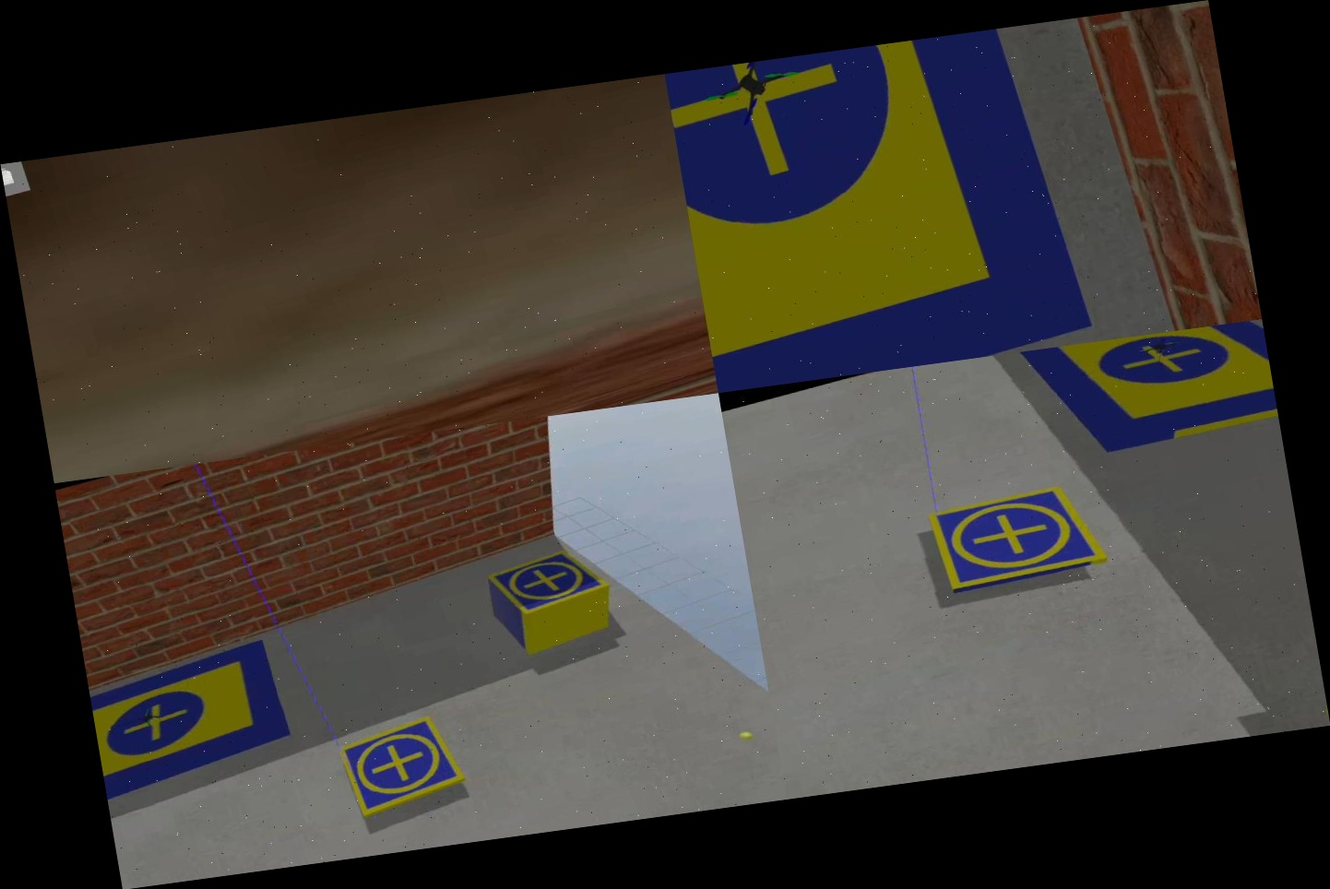large_base: (665, 22, 1100, 393), (1013, 319, 1284, 488), (85, 638, 311, 821)
small_base: (922, 473, 1113, 605), (332, 707, 474, 822), (487, 542, 618, 623)
